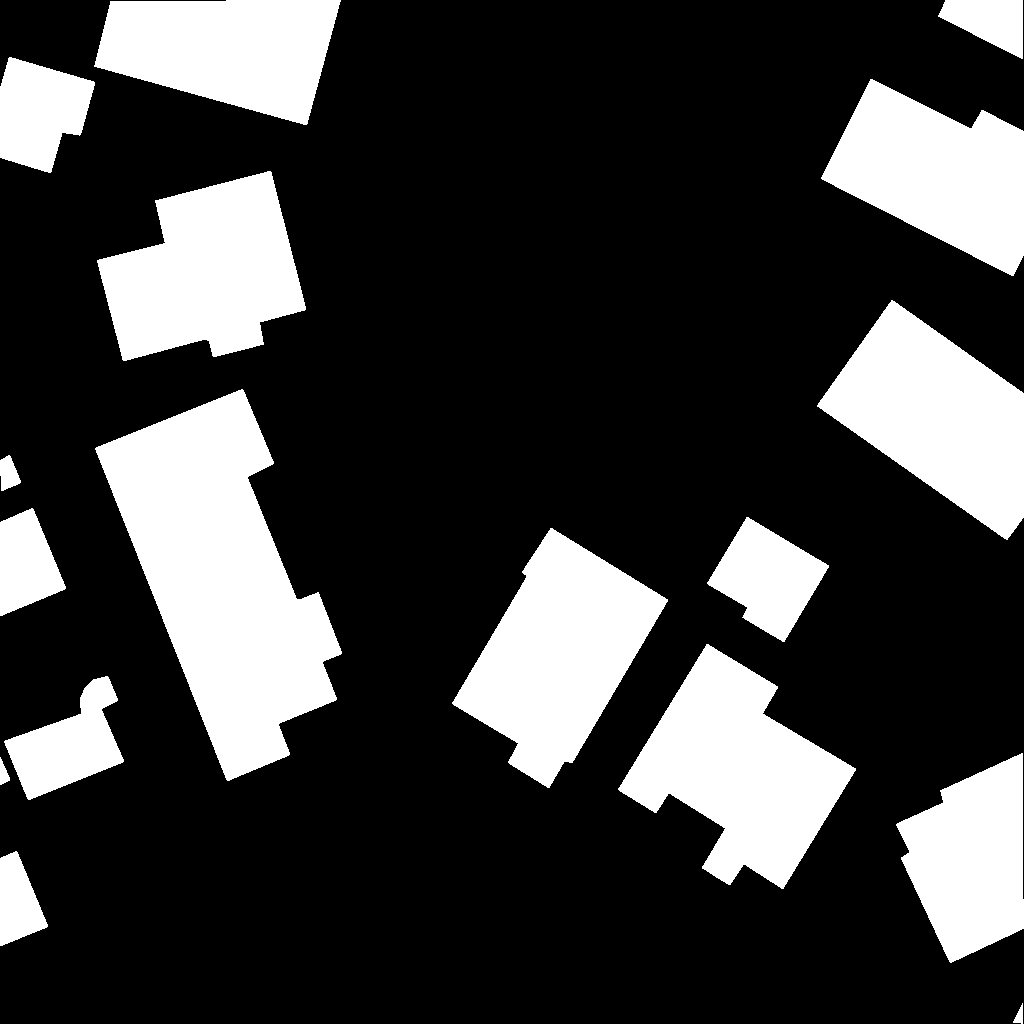building: (95, 389, 343, 782), (618, 644, 857, 890), (452, 528, 669, 789), (817, 300, 1024, 541), (821, 79, 1024, 277), (97, 171, 307, 362), (94, 0, 342, 126), (896, 753, 1024, 964), (707, 517, 830, 643), (4, 676, 125, 801), (0, 57, 96, 174), (0, 508, 67, 617), (938, 0, 1024, 60), (0, 851, 49, 947), (0, 455, 22, 492), (0, 756, 11, 786), (1013, 1003, 1024, 1024)
